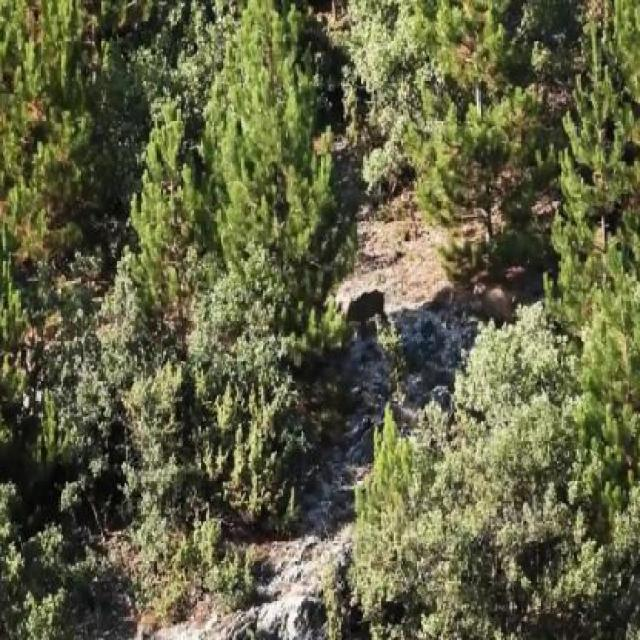pig: (340, 277, 407, 341)
